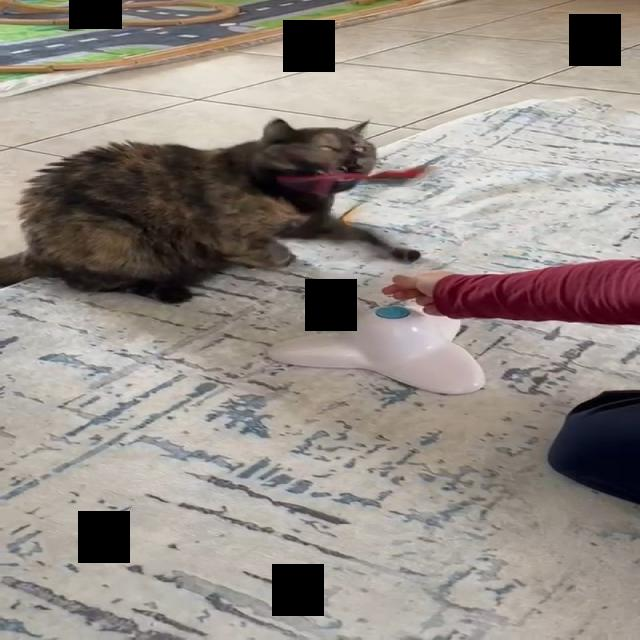authorized: (0, 116, 423, 304)
